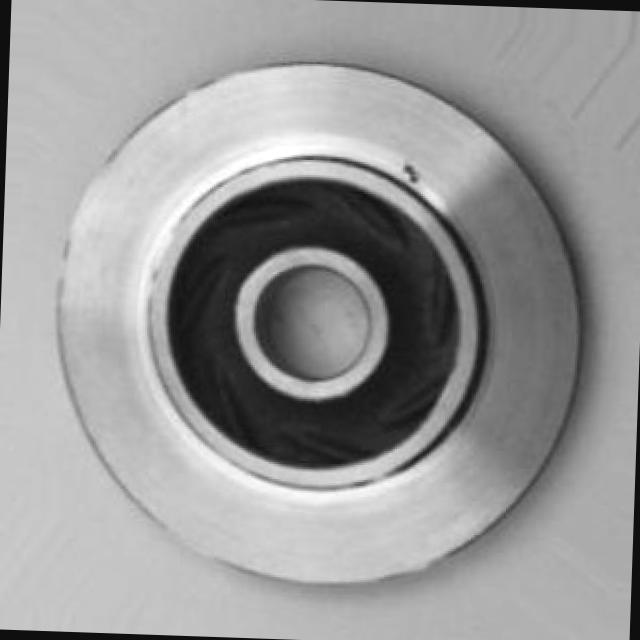Defect: (400, 152, 435, 197)
